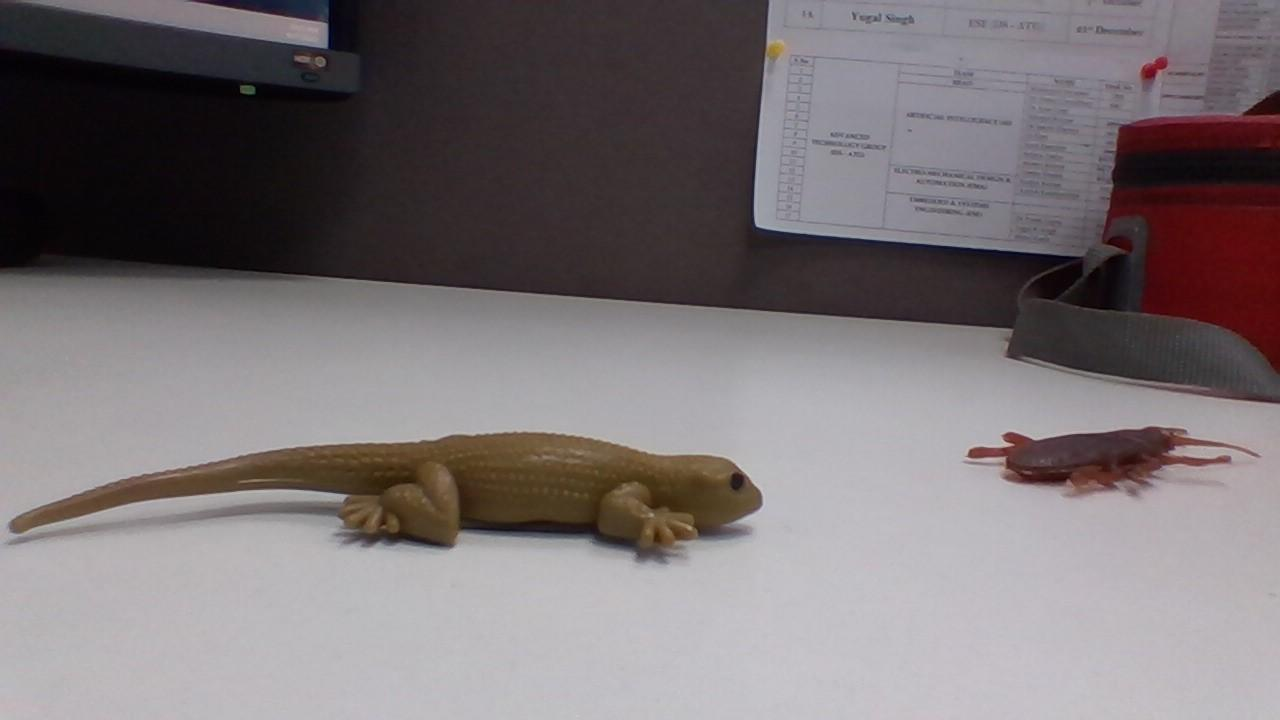cockroach: (960, 415, 1257, 496)
lizard: (0, 417, 763, 572)
